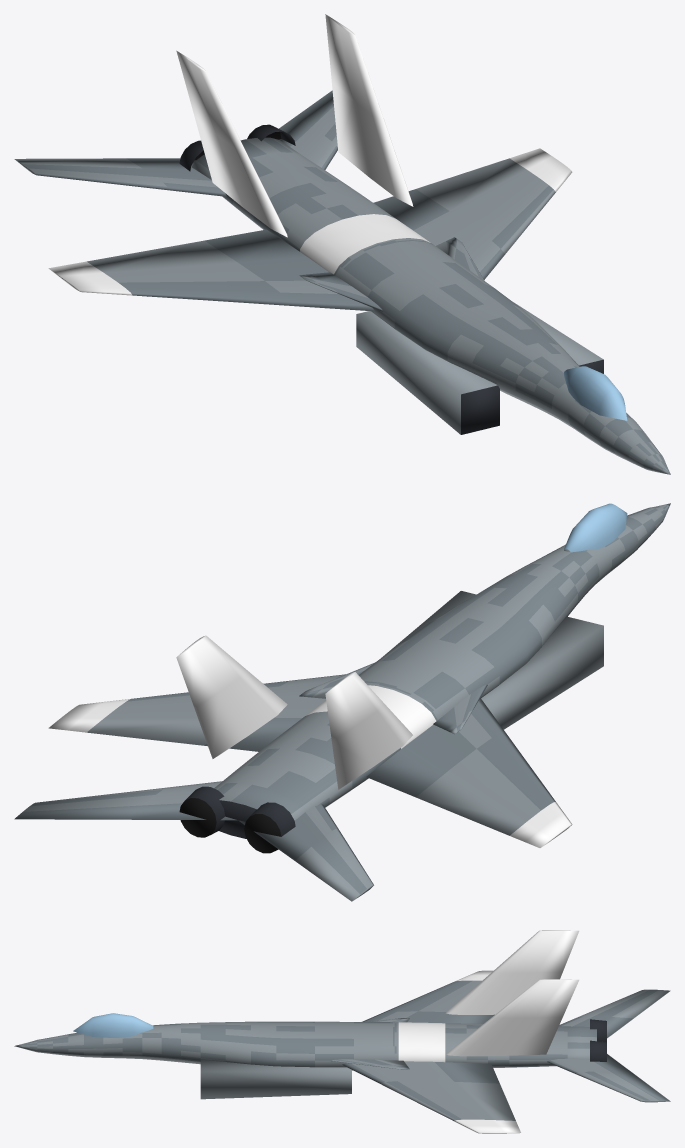
The model's file is mig29a.glb.
3 renders of one model, top to bottom at view 1: azimuth 30°, elevation 25°; view 2: azimuth 150°, elevation 25°; view 3: azimuth 270°, elevation 25°, orthographic. The views are drawn at different scales.
Parts seen in each view (by area): view 1: body; view 2: body; view 3: body.
Boxes of the visible parts, x1,y1,x2,y2 form: body: (14,14,670,474); body: (14,503,670,901); body: (14,930,670,1133).
Bounding box in the file's own units: 11.36 × 3.96 × 19.52.
